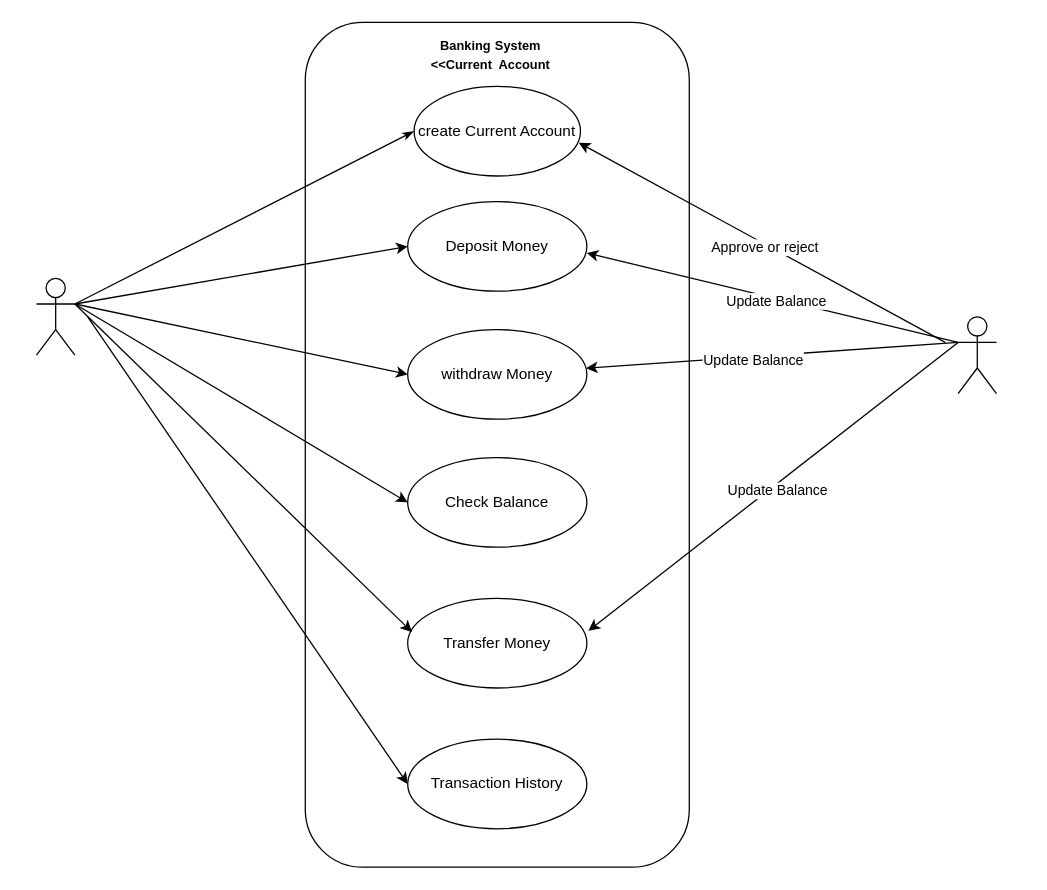
Image size: 1047x890. Some labels were removed from this diagram. The centre of each missing label's shape, as x and y in pixels:
Banksystem: the point at 976,355
Customer: the point at 55,316
